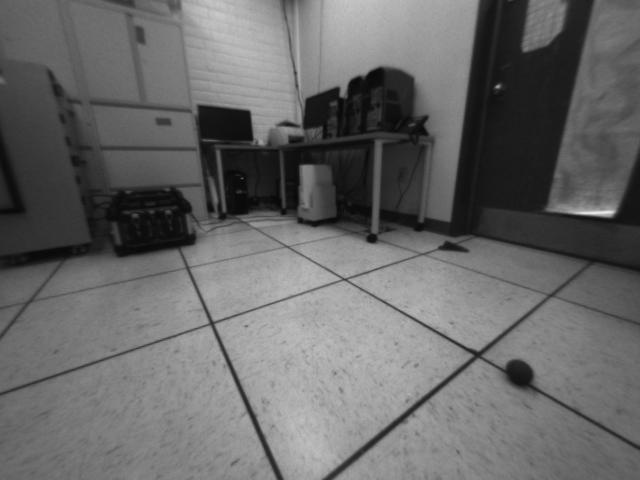dogtoy: (499, 352, 543, 395)
